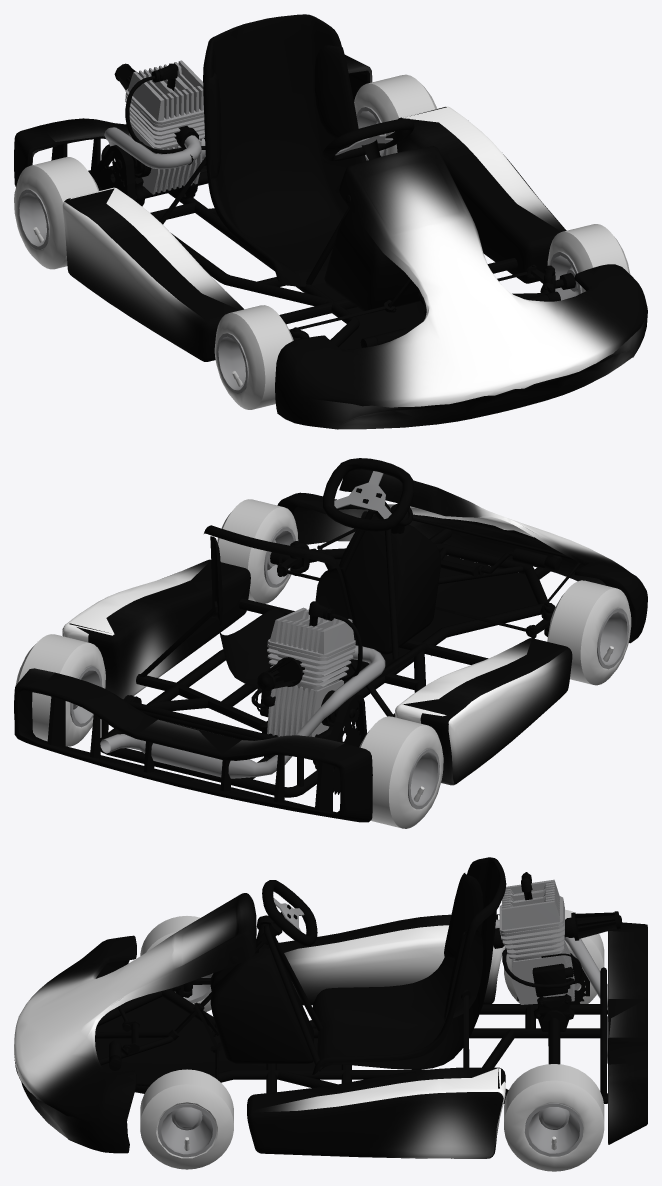
File: KartLowPoly.obj
3 renders of one model, top to bottom at view 1: azimuth 30°, elevation 25°; view 2: azimuth 150°, elevation 25°; view 3: azimuth 270°, elevation 25°, orthographic. The views are drawn at different scales.
Visible parts, largest first — view 1: Farings, KartLowPoly, Engine, RearTires, FRTire, FLTire, RearWheels, SWheelRim, FRWheel, FLWheel; view 2: Farings, KartLowPoly, Engine, RearTires, FRTire, FLTire, SWheelRim, RearWheels, FRWheel, SWheelHub, FLWheel; view 3: Farings, KartLowPoly, RearTires, Engine, FLTire, RearWheels, FLWheel, SWheelRim, FRTire.
Part boxes in pixels (x1=…): Farings: x1=14, y1=55, x2=647, y2=429; KartLowPoly: x1=51, y1=14, x2=575, y2=349; Engine: x1=104, y1=60, x2=205, y2=194; RearTires: x1=14, y1=74, x2=436, y2=269; FRTire: x1=214, y1=305, x2=293, y2=409; FLTire: x1=547, y1=224, x2=630, y2=292; RearWheels: x1=17, y1=106, x2=387, y2=249; SWheelRim: x1=323, y1=118, x2=414, y2=161; FRWheel: x1=216, y1=333, x2=248, y2=393; FLWheel: x1=550, y1=251, x2=581, y2=300; Farings: x1=14, y1=469, x2=647, y2=822; KartLowPoly: x1=47, y1=488, x2=580, y2=811; Engine: x1=100, y1=607, x2=385, y2=778; RearTires: x1=14, y1=634, x2=443, y2=828; FRTire: x1=547, y1=580, x2=631, y2=685; FLTire: x1=217, y1=499, x2=298, y2=603; SWheelRim: x1=323, y1=458, x2=413, y2=531; RearWheels: x1=70, y1=666, x2=439, y2=809; FRWheel: x1=597, y1=608, x2=629, y2=669; SWheelHub: x1=334, y1=471, x2=391, y2=518; FLWheel: x1=264, y1=527, x2=295, y2=587; Farings: x1=14, y1=893, x2=647, y2=1158; KartLowPoly: x1=95, y1=857, x2=621, y2=1103; RearTires: x1=504, y1=909, x2=604, y2=1171; Engine: x1=493, y1=879, x2=607, y2=1063; FLTire: x1=140, y1=1069, x2=233, y2=1169; RearWheels: x1=524, y1=952, x2=583, y2=1156; FLWheel: x1=157, y1=1103, x2=216, y2=1157; SWheelRim: x1=262, y1=880, x2=317, y2=946; FRTire: x1=140, y1=916, x2=211, y2=1011.
Size of the model in its own units: 1652 by 887 by 2448.
